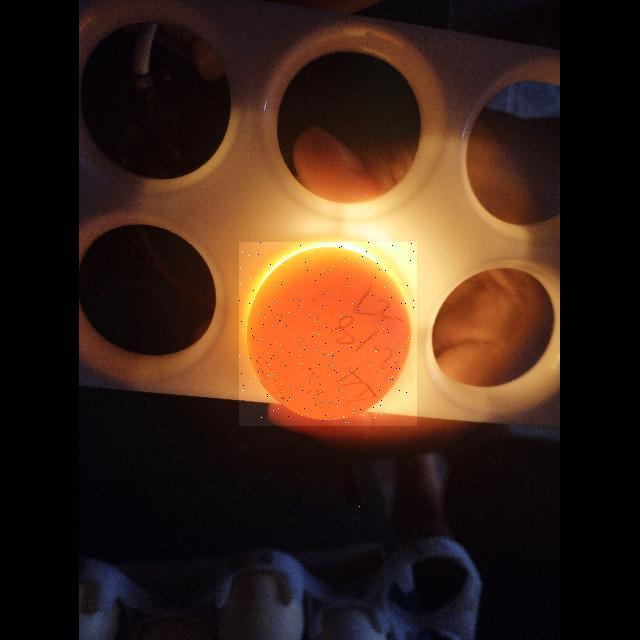Infertile: (239, 242, 417, 426)
